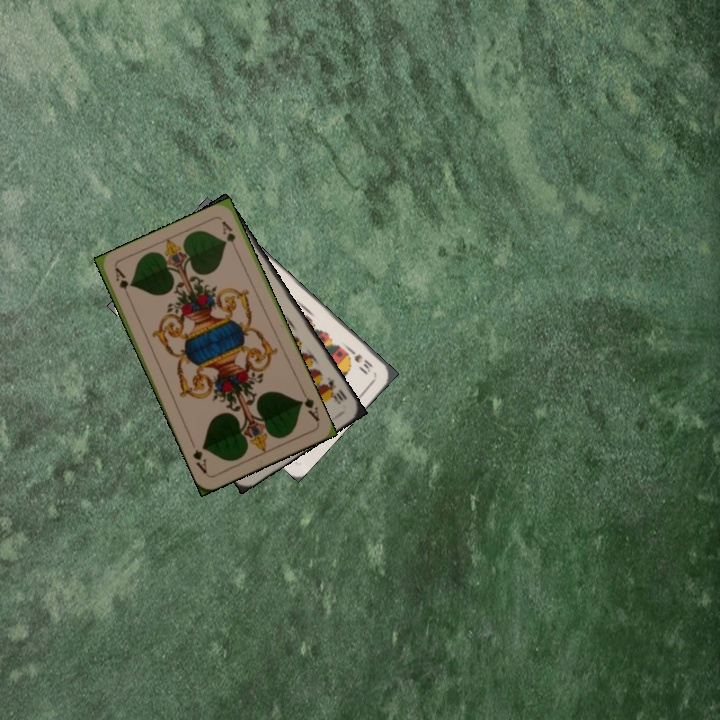E10: (319, 373, 350, 407)
GA: (295, 387, 322, 424), (111, 264, 134, 303)
S10: (344, 344, 375, 376)
